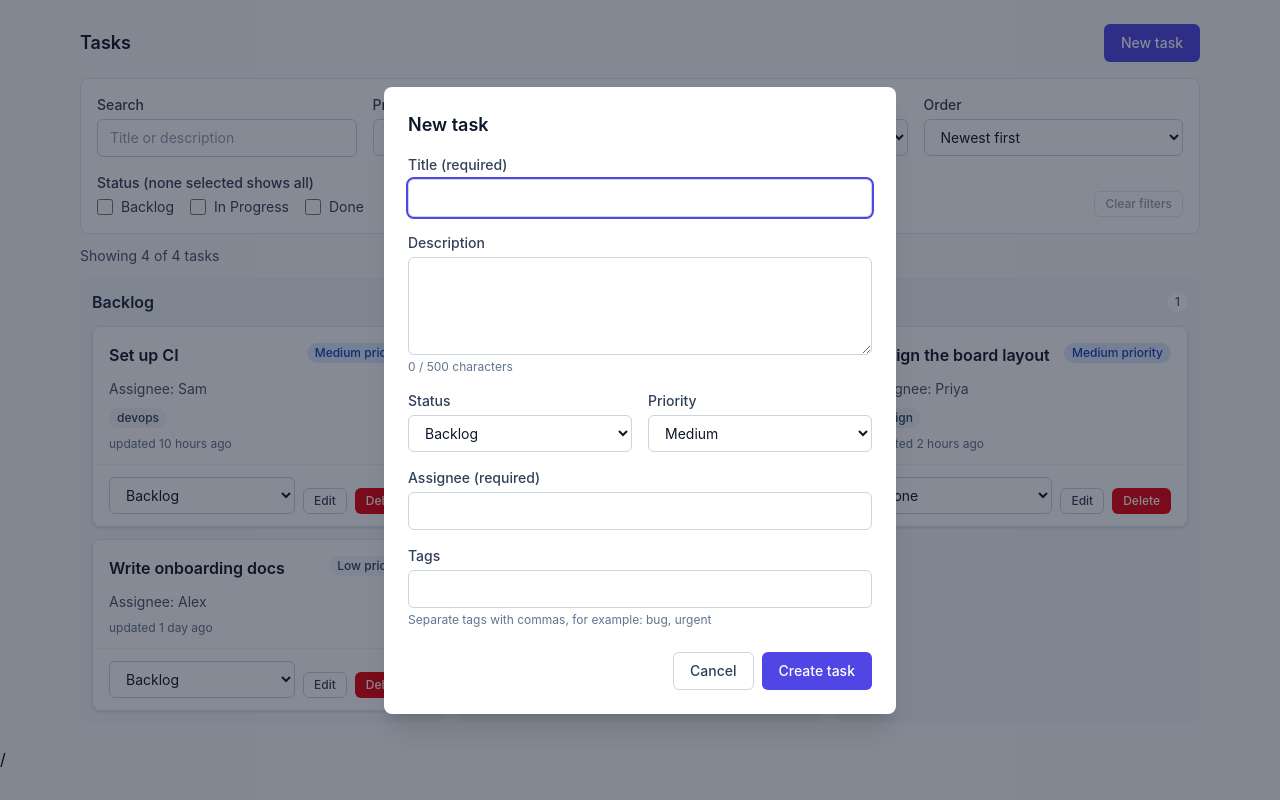
leaving the form with unsaved changes › closes an untouched form silently, and asks before discarding real changes
This screenshot has width=1280, height=800.
Earlier steps of the test are not shown.
Press Escape
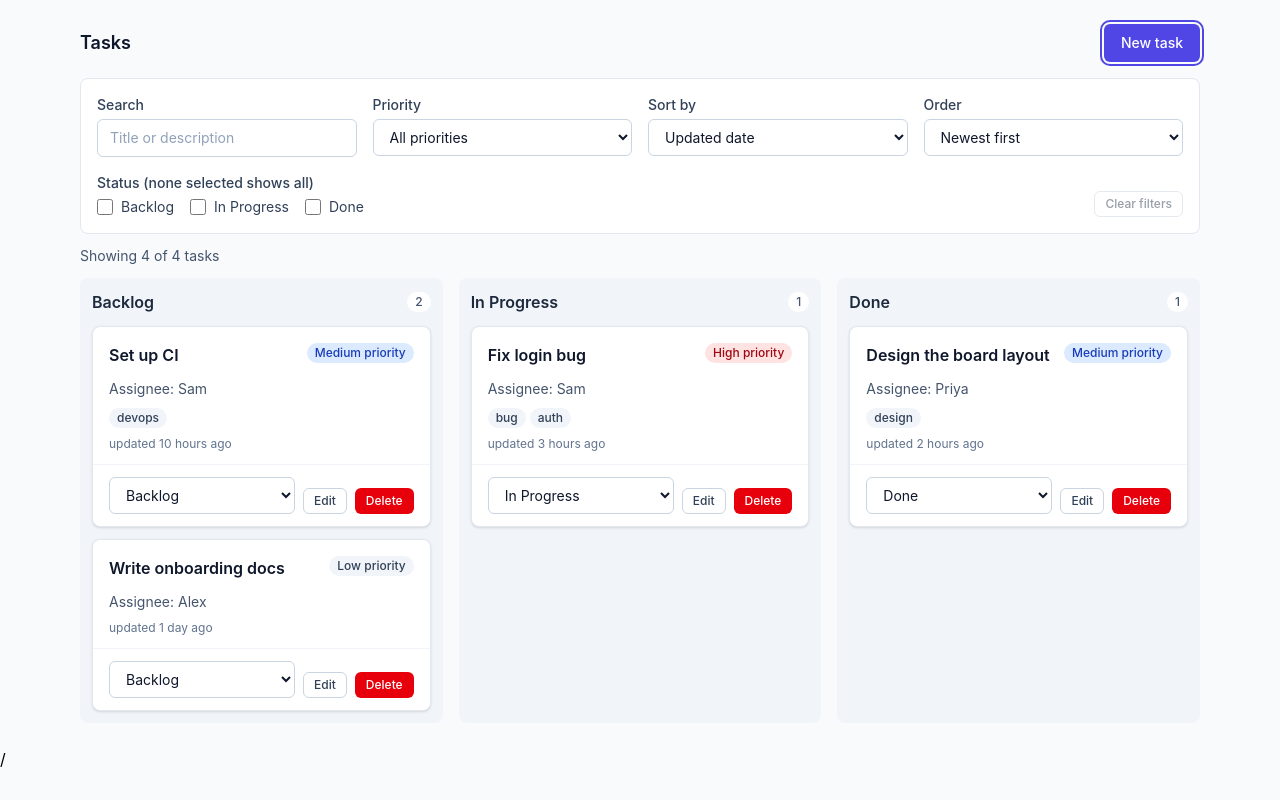
Expected: the dialog is gone
Note: Changed: Esc asks first.
Click the button "New task" at (1152, 43), box 1104,24 -> 1200,62
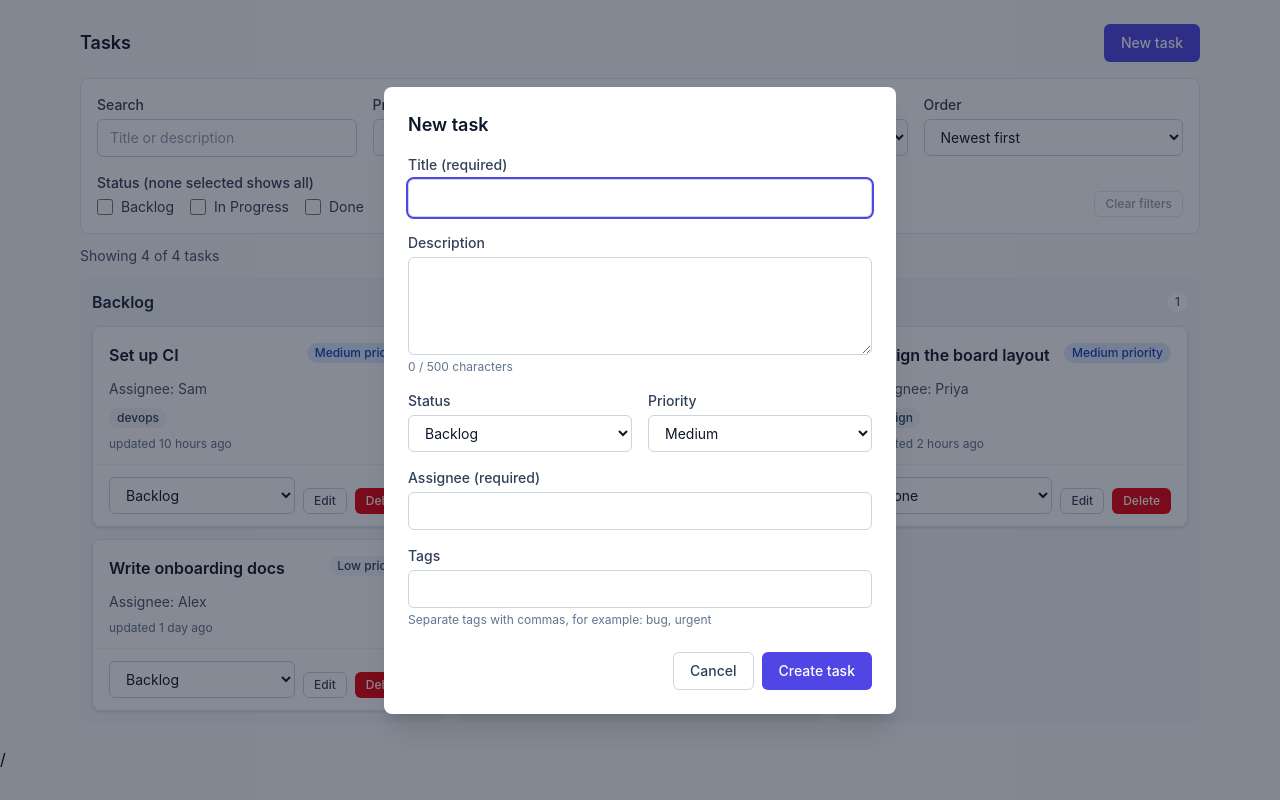
Type "Half written" into the field labelled "Title (required)" at (640, 198), box 408,178 -> 872,216
Press Escape
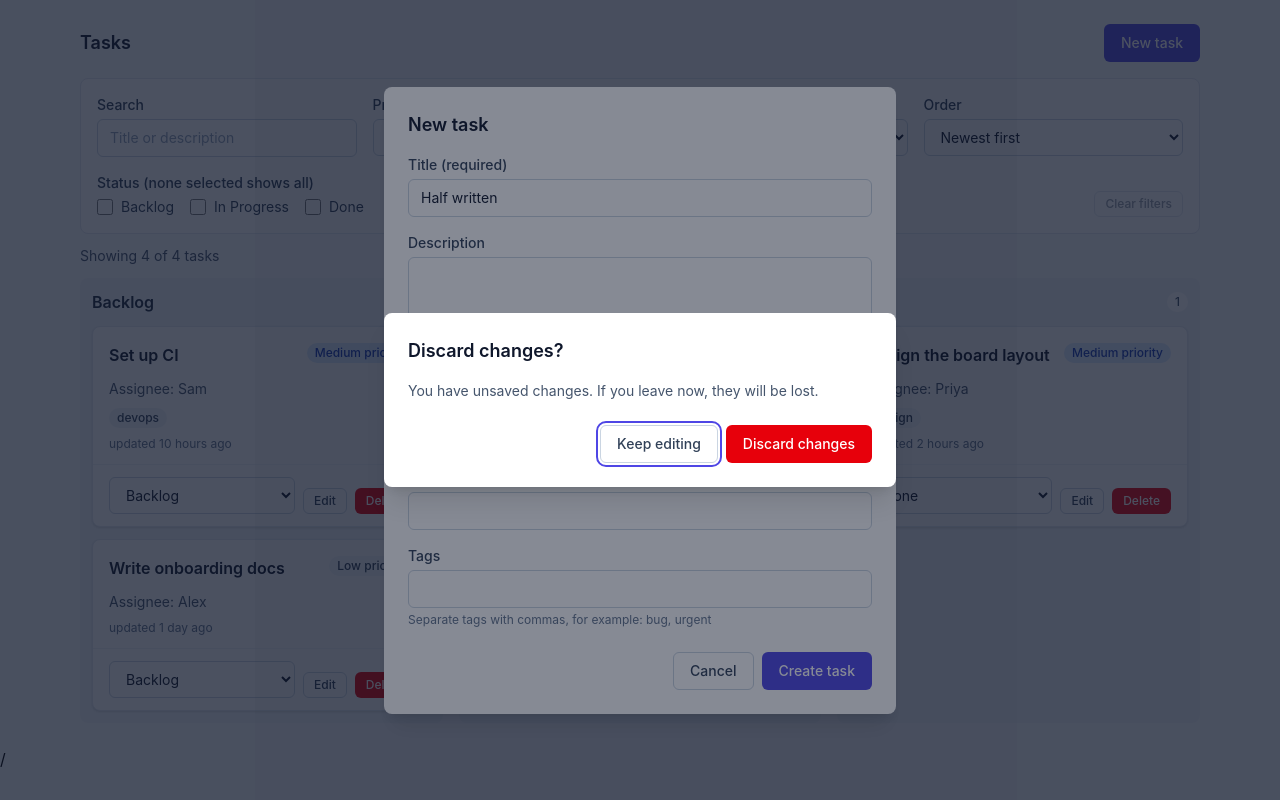
Expected: the dialog "Discard changes?" is shown, 384,313 -> 896,487
Note: "Keep editing" returns to the form with the text intact.
Click the button "Keep editing" at (659, 444), box 600,425 -> 718,463
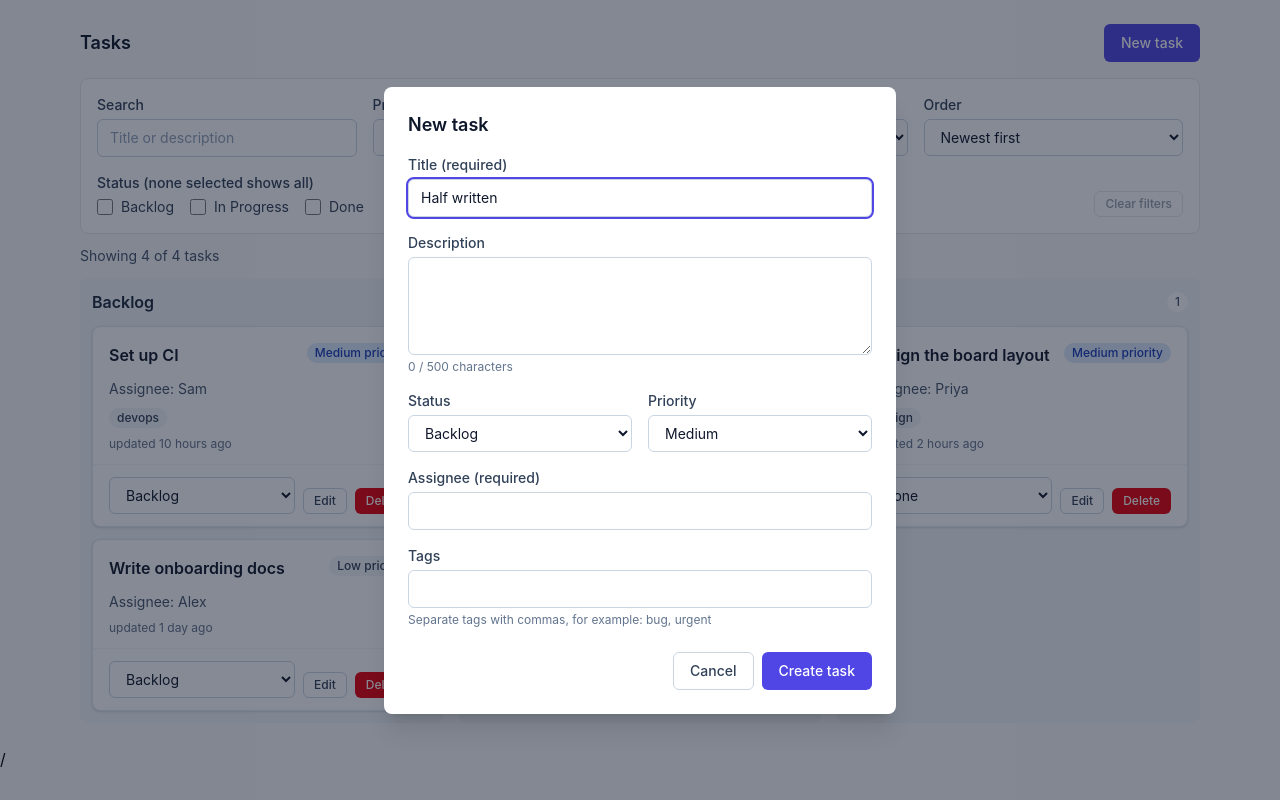
Expected: the heading "Discard changes?" is gone
Note: "Discard changes" closes everything and gives focus back to the button that opened it.
Press Escape
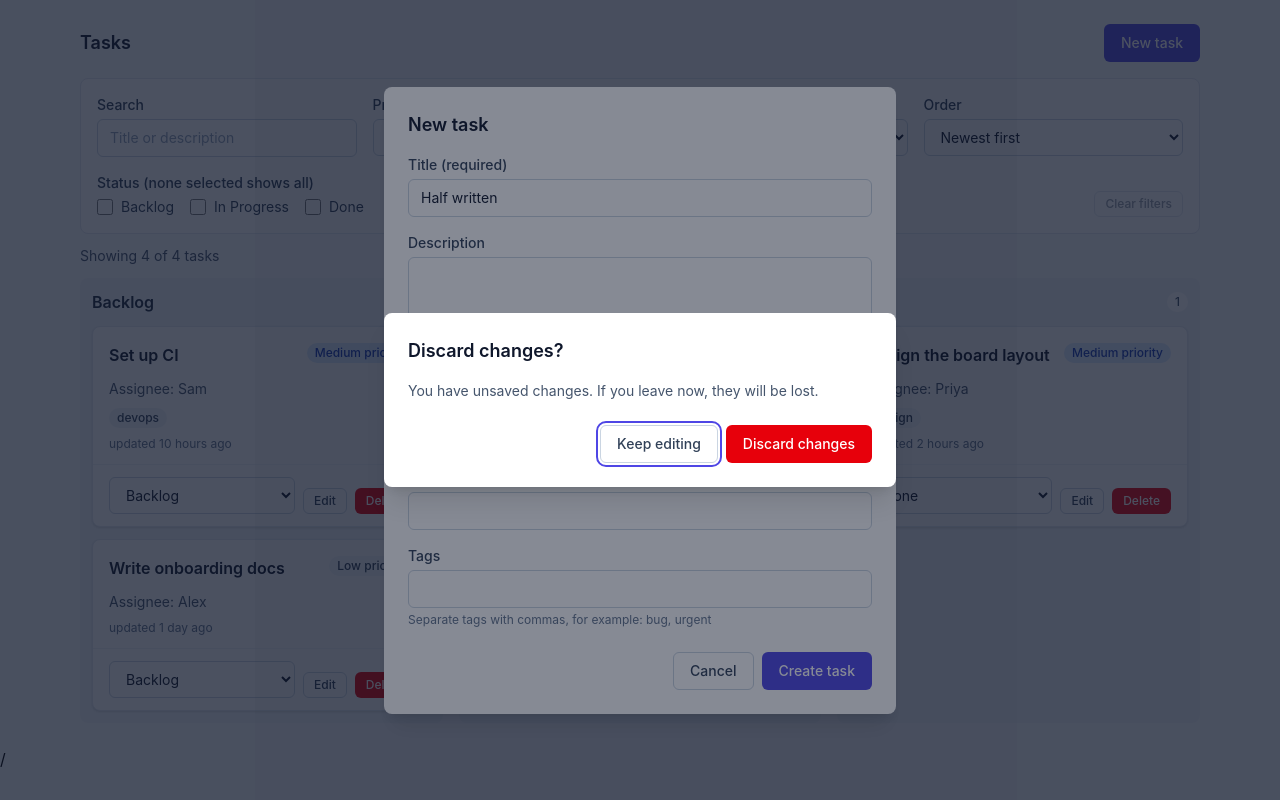
Click the button "Discard changes" at (799, 444), box 726,425 -> 872,463
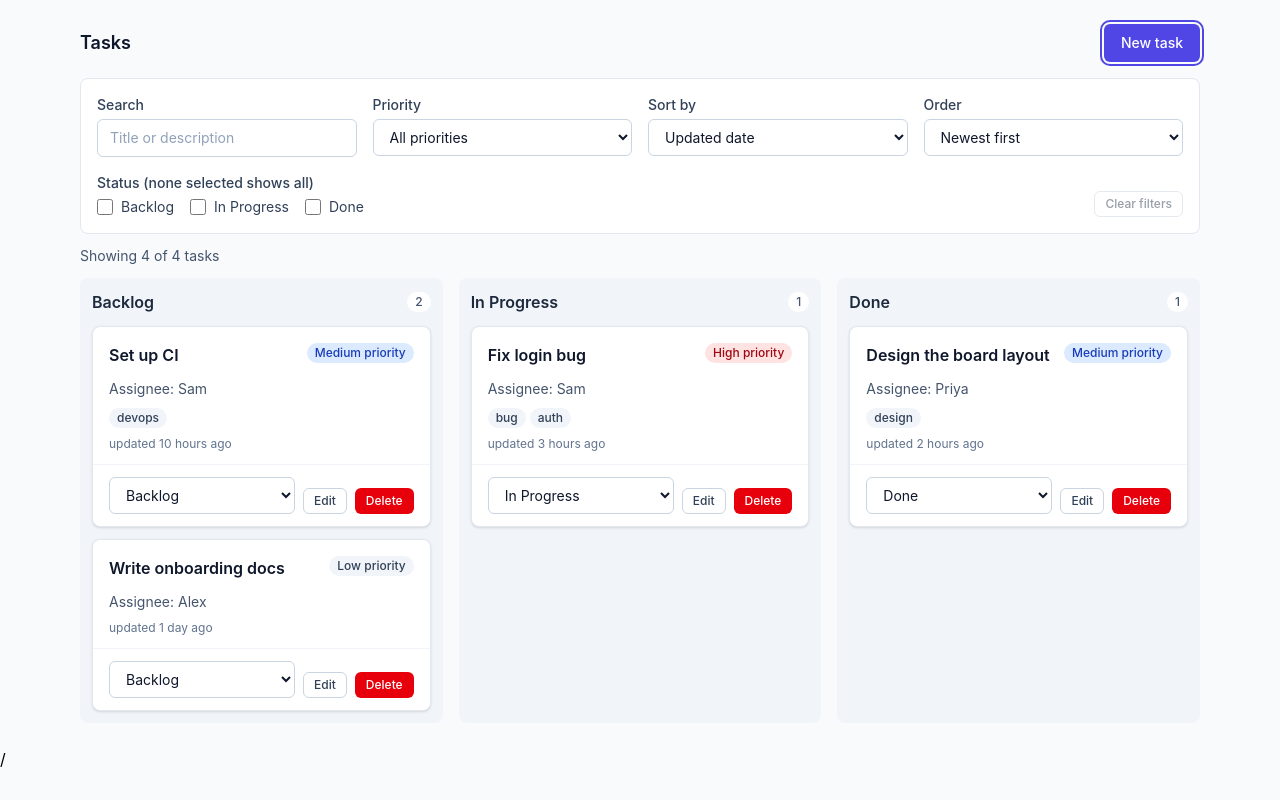
Expected: the dialog is gone
